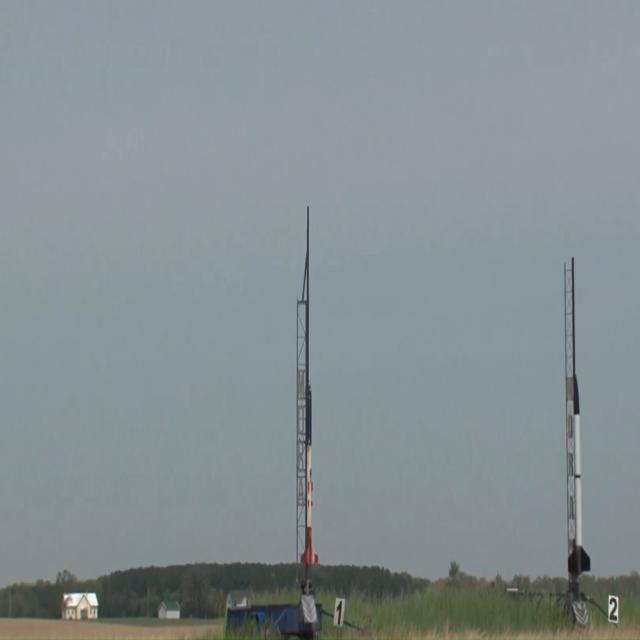Rocket: (567, 372, 592, 576), (300, 382, 319, 566)
